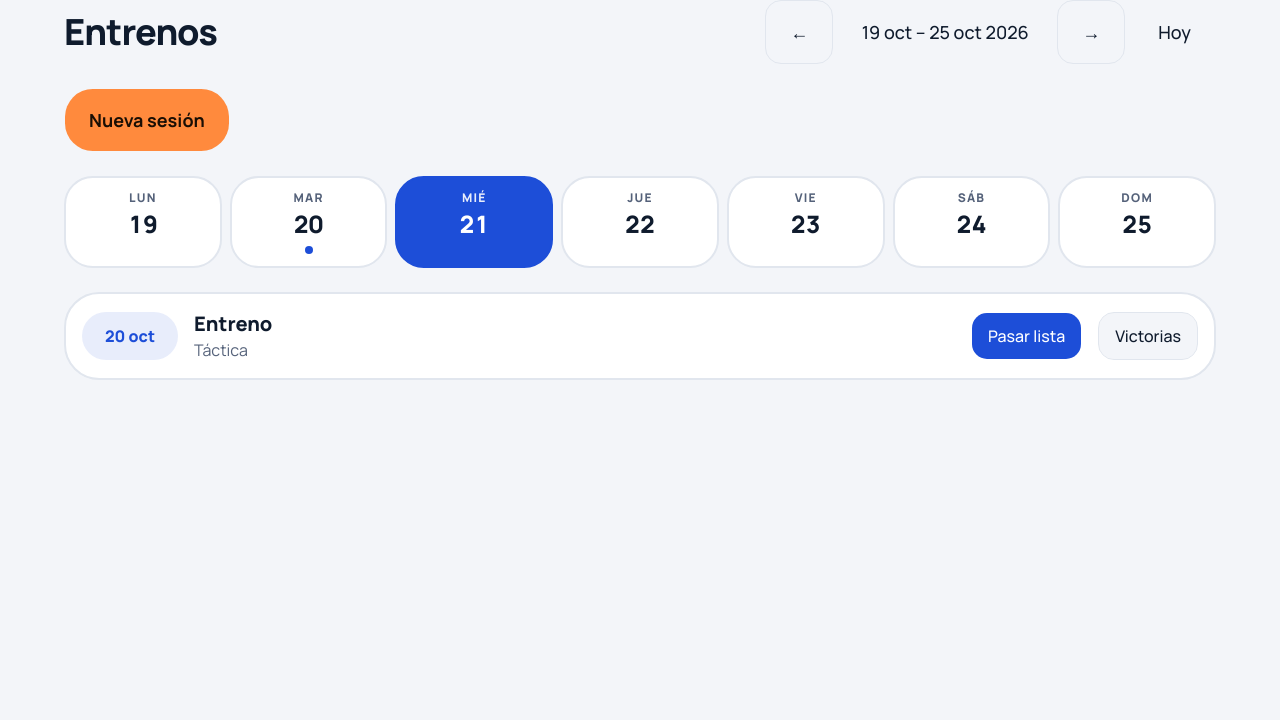
Test: EntrenosPage › acepta una falta propuesta y la registra en la sesión
Expected: the text "Táctica" is shown, [194, 339, 248, 361]
Click the button with aria-label "Pasar lista: Entreno 20 oct" at (1027,336), box [971, 312, 1082, 360]
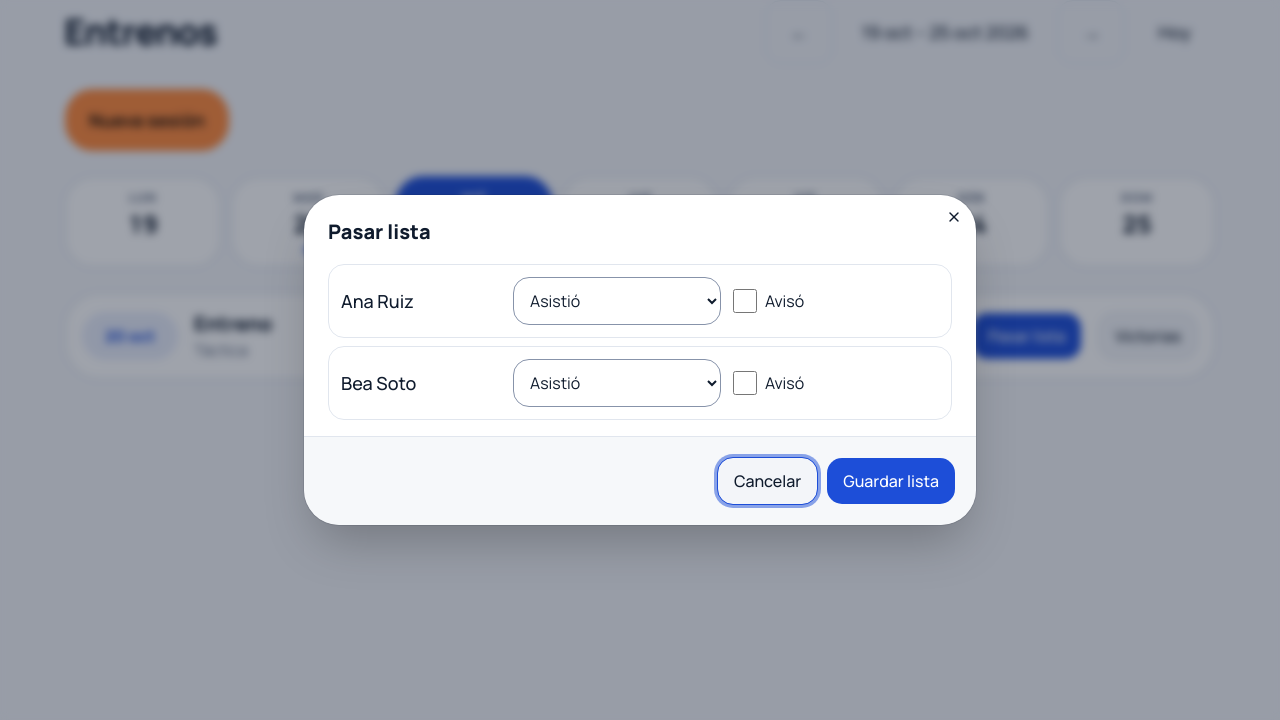
Now the text "Ana Ruiz" is shown, box [341, 289, 414, 313]
Click the button "Guardar lista" at (891,481), box [826, 457, 956, 505]
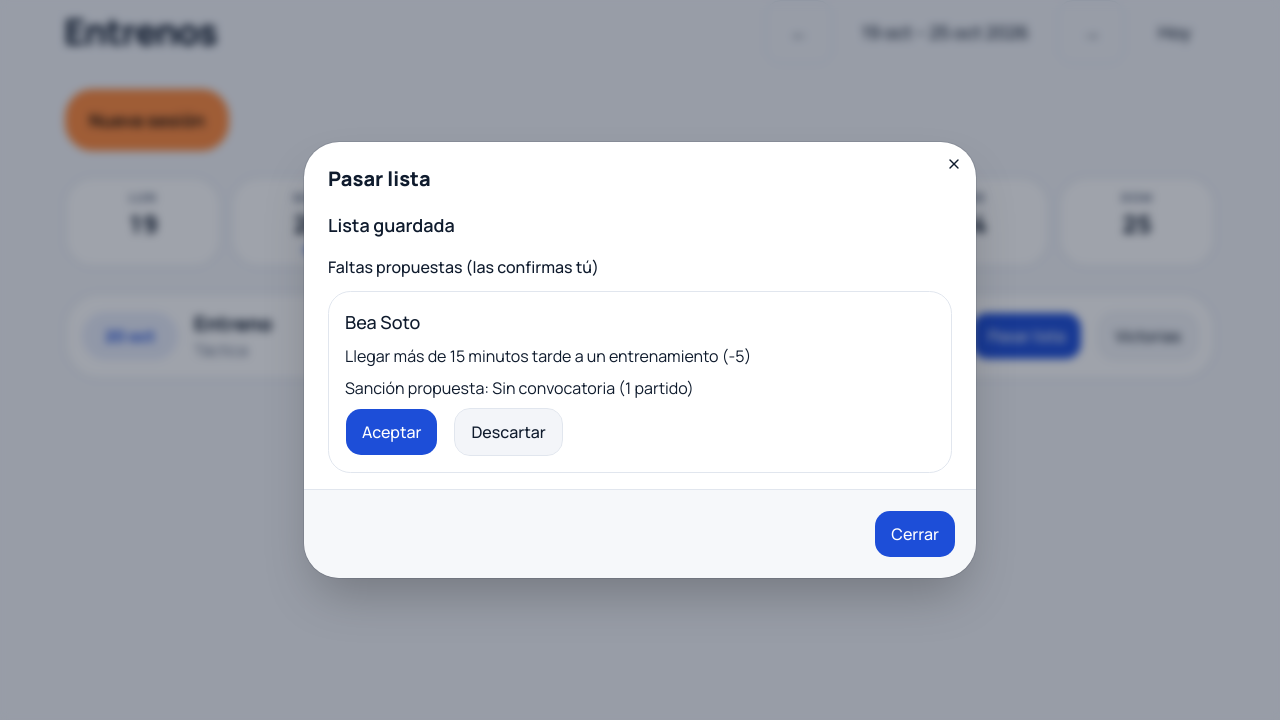
Now the text "Llegar más de 15 minutos tarde a un entrenamiento (-5)" is shown, box [345, 345, 751, 367]
Now the text "Sanción propuesta: Sin convocatoria (1 partido)" is shown, box [345, 377, 694, 399]
Click the button with aria-label "Aceptar falta de Bea Soto" at (392,432), box [345, 408, 438, 456]
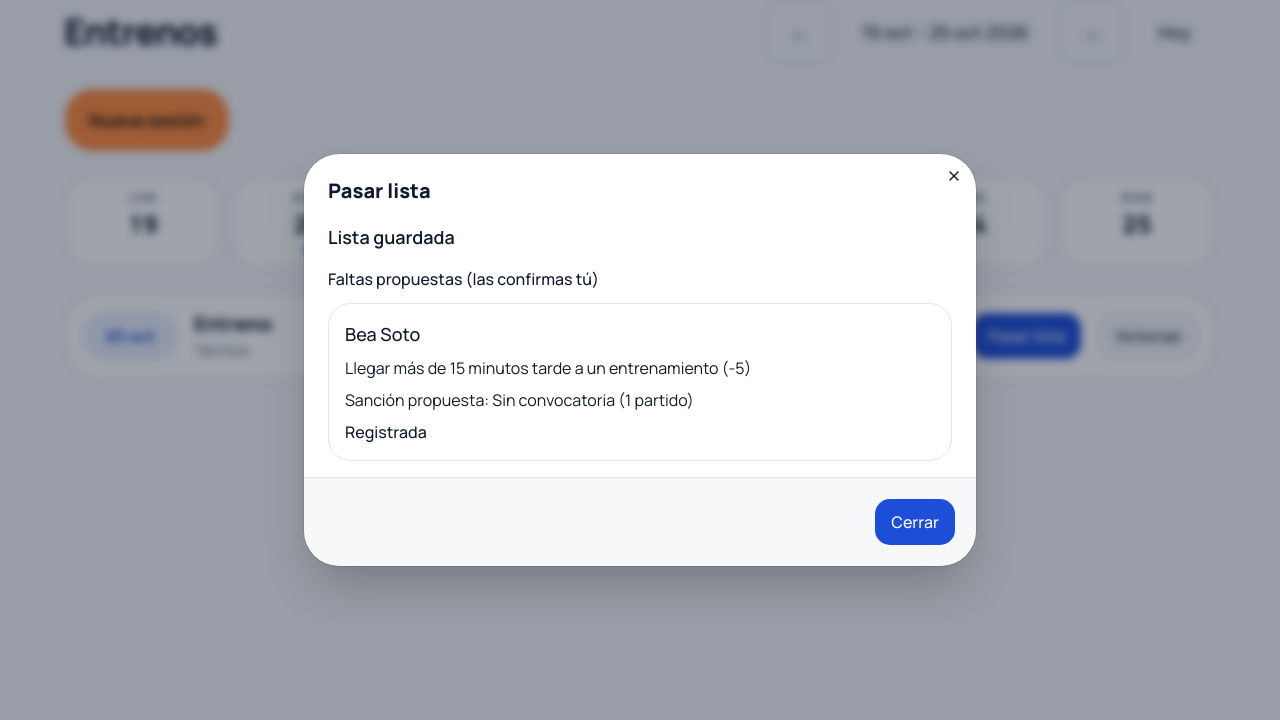
Now the text "Registrada" is shown, box [345, 421, 427, 443]
